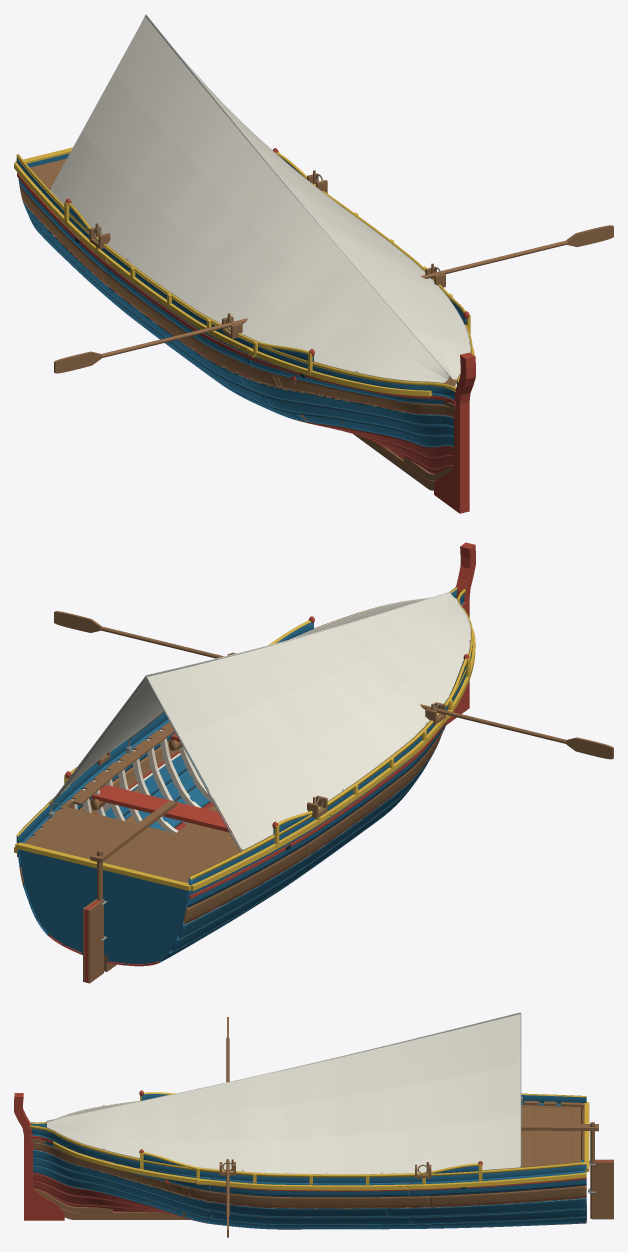
Rendered from kajjik.glb.
3 renders of one model, top to bottom at view 1: azimuth 30°, elevation 25°; view 2: azimuth 150°, elevation 25°; view 3: azimuth 270°, elevation 25°, orthographic. The views are drawn at different scales.
Parts seen in each view (by area): view 1: canopy-cover-506, canopy-cover-505, canopy-cover-504, canopy-cover-507, canopy-cover-508, bow-post-5, canopy-cover-509, washboards-77, planking-60, planking-55, planking-41, planking-61 (+18 smaller); view 2: canopy-cover-504, canopy-cover-505, canopy-cover-506, transom-6, thwarts-354, planking-59, planking-60, planking-53, canopy-cover-508, washboards-179, sheer-strake-73, transom-7 (+29 smaller); view 3: canopy-cover-507, canopy-cover-508, canopy-cover-509, washboards-179, planking-162, planking-155, bow-post-5, planking-161, sheer-strake-176, planking-142, sheer-strake-175, planking-157 (+39 smaller).
Boxes of the visible parts, bbox=[...] form: canopy-cover-506: bbox=[114, 16, 448, 379]; canopy-cover-505: bbox=[82, 73, 447, 381]; canopy-cover-504: bbox=[50, 131, 444, 382]; canopy-cover-507: bbox=[180, 56, 451, 377]; canopy-cover-508: bbox=[227, 107, 456, 379]; bow-post-5: bbox=[434, 352, 475, 513]; canopy-cover-509: bbox=[295, 170, 470, 379]; washboards-77: bbox=[16, 158, 454, 398]; planking-60: bbox=[99, 267, 276, 386]; planking-55: bbox=[238, 374, 453, 427]; planking-41: bbox=[263, 395, 453, 436]; planking-61: bbox=[271, 373, 453, 417]; canopy-cover-504: bbox=[210, 598, 470, 849]; canopy-cover-505: bbox=[178, 595, 456, 791]; canopy-cover-506: bbox=[147, 592, 451, 733]; transom-6: bbox=[19, 849, 188, 965]; thwarts-354: bbox=[92, 784, 232, 833]; planking-59: bbox=[183, 843, 308, 923]; planking-60: bbox=[305, 725, 445, 857]; planking-53: bbox=[177, 839, 333, 938]; canopy-cover-508: bbox=[82, 599, 422, 760]; washboards-179: bbox=[16, 589, 457, 843]; sheer-strake-73: bbox=[186, 820, 325, 906]; transom-7: bbox=[15, 842, 190, 890]; canopy-cover-507: bbox=[47, 1014, 520, 1124]; canopy-cover-508: bbox=[47, 1064, 520, 1142]; canopy-cover-509: bbox=[47, 1115, 520, 1173]; washboards-179: bbox=[31, 1128, 586, 1183]; planking-162: bbox=[189, 1187, 430, 1207]; planking-155: bbox=[387, 1198, 586, 1216]; bow-post-5: bbox=[14, 1093, 64, 1220]; planking-161: bbox=[430, 1185, 586, 1206]; sheer-strake-176: bbox=[210, 1177, 409, 1196]; planking-142: bbox=[210, 1211, 409, 1224]; sheer-strake-175: bbox=[409, 1170, 586, 1195]; planking-157: bbox=[33, 1150, 230, 1213].
Bounding box in the file's own units: 5.07 × 2.3 × 6.05.
